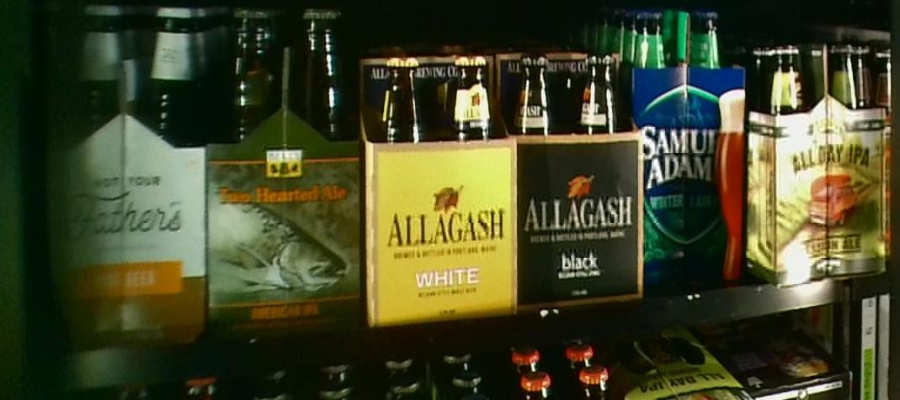bottle: (45, 7, 202, 346), (208, 4, 362, 337), (366, 50, 516, 327), (516, 54, 638, 315), (753, 47, 887, 278), (637, 14, 751, 281)
